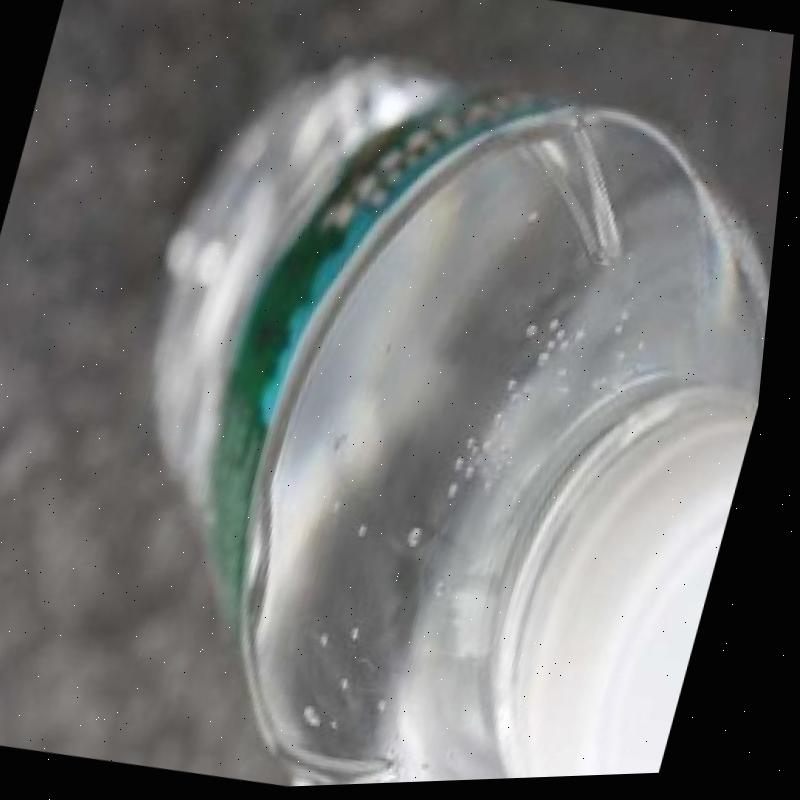botella: (48, 23, 797, 797)
